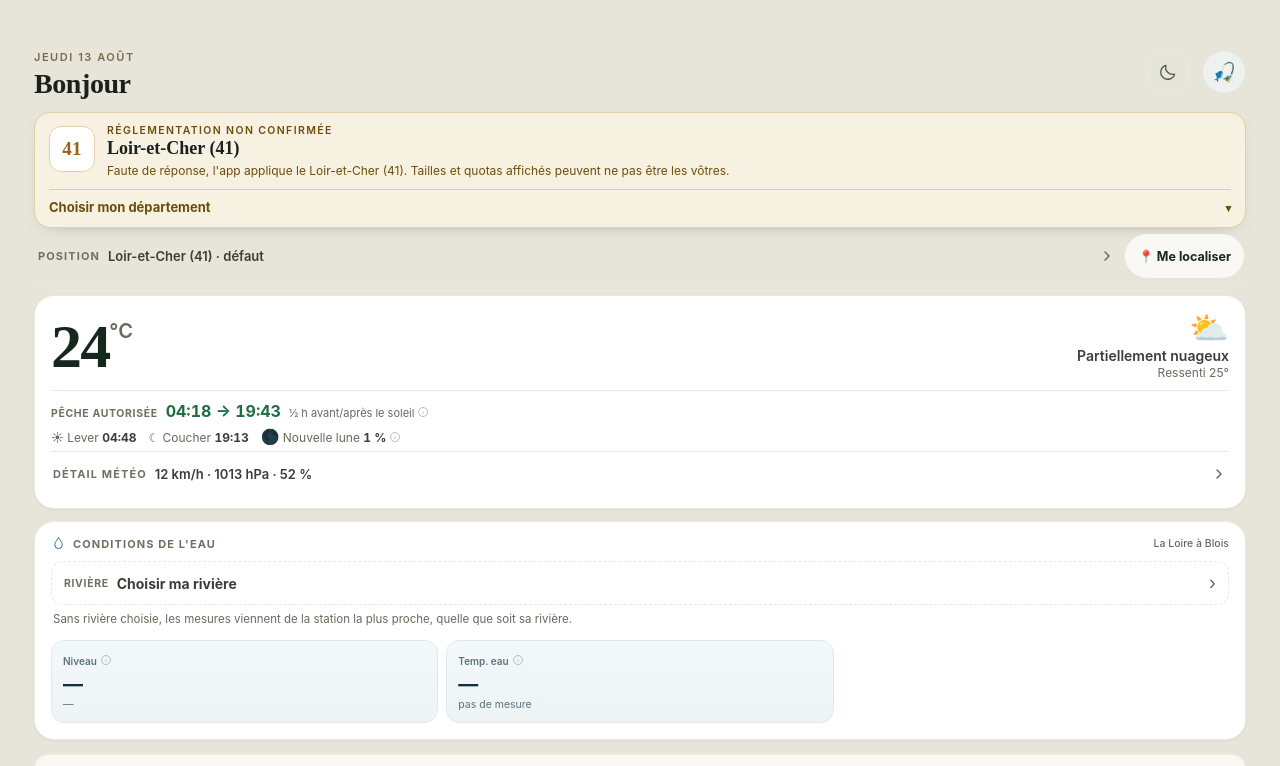
Test: StrictMode : le double montage ne condamne pas la chaîne GPS › « Me localiser » aboutit : le bouton quitte « Localisation… »
The width and height of the screenshot is (1280, 766).
Click the button "📍 Me localiser" at (1185, 256), box [1125, 234, 1244, 278]
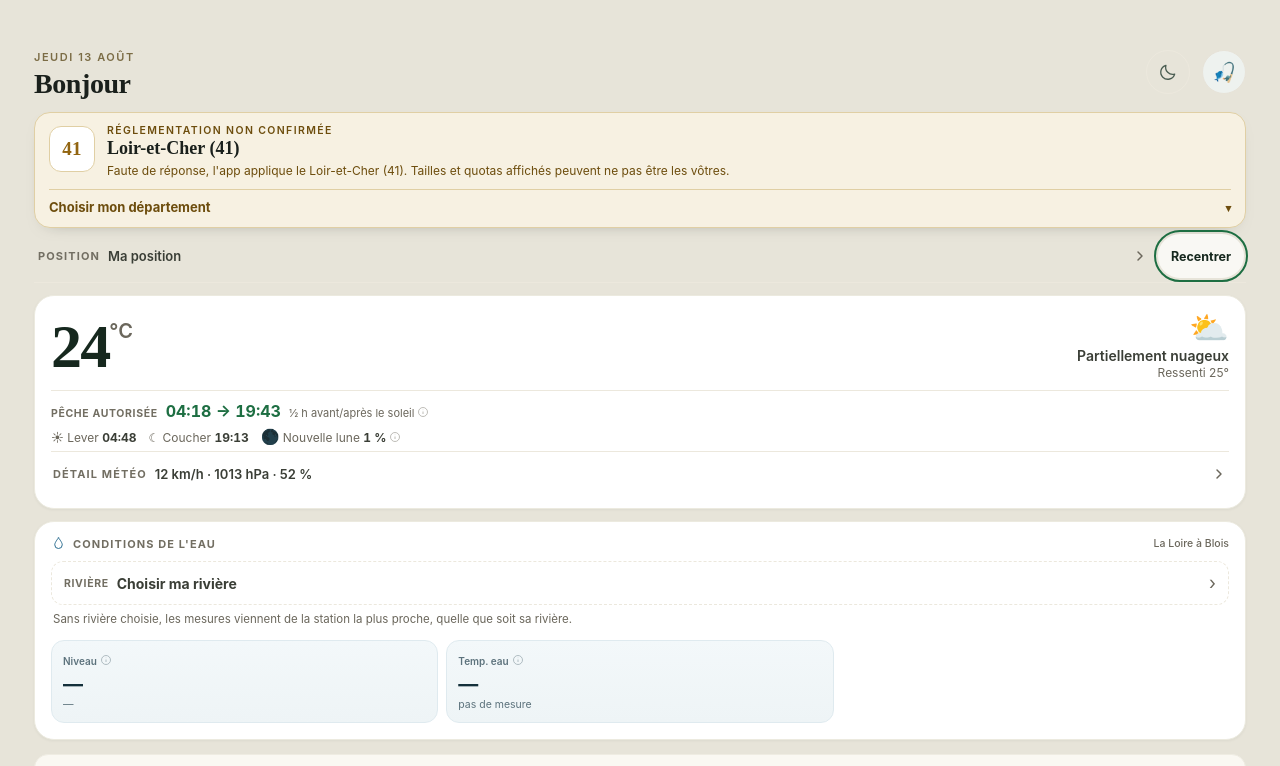
Expected: the button "Recentrer" is shown, [1158, 234, 1244, 278]
